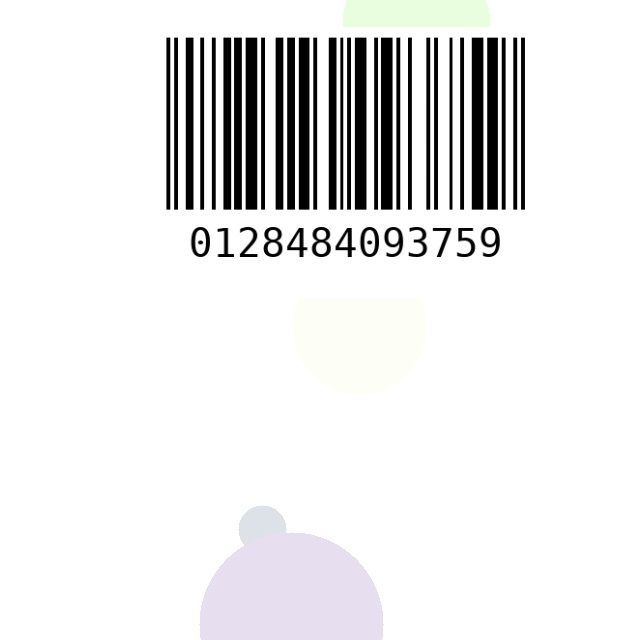barcode: (93, 27, 598, 298)
